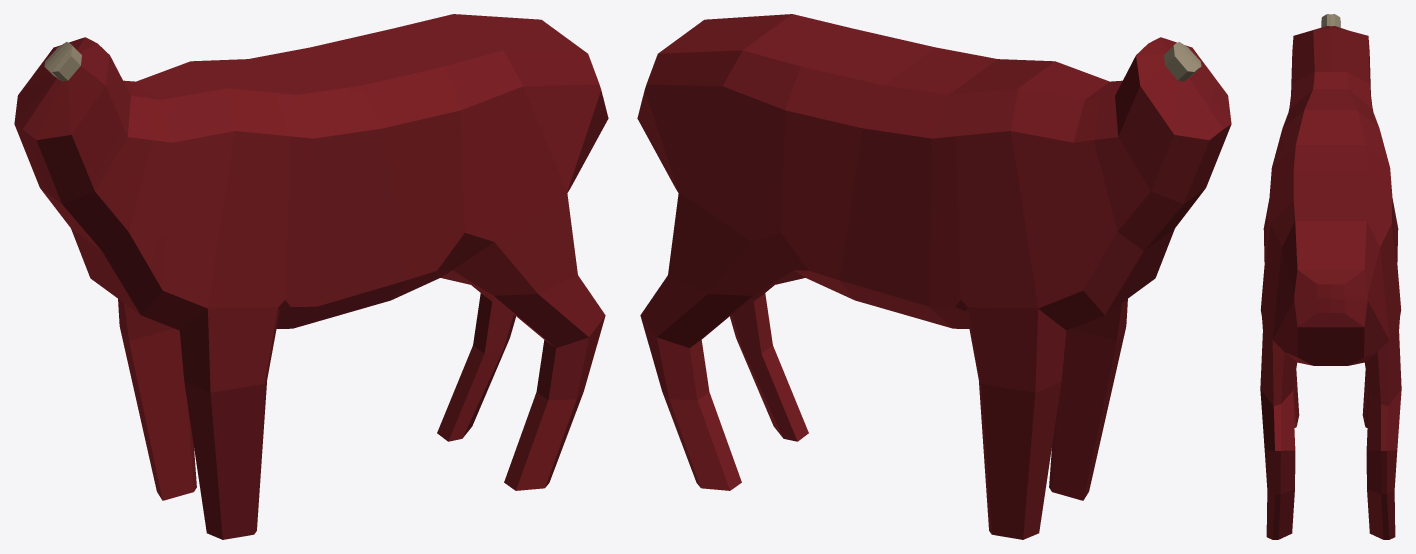
The model's file is MageHunter - DeerMeat.fbx.
3 views of the same model, side by side, from view 1: azimuth 30°, elevation 25°; view 2: azimuth 150°, elevation 25°; view 3: azimuth 270°, elevation 25° (orthographic). The views are drawn at different scales.
Parts seen in each view (by area): view 1: Cube; view 2: Cube; view 3: Cube.
Boxes of the visible parts, box(x1,y1,x2,y2) form: Cube: box(14, 14, 608, 539); Cube: box(637, 14, 1231, 539); Cube: box(1260, 14, 1401, 539).
Bounding box in the file's own units: 342 × 300 × 103.
